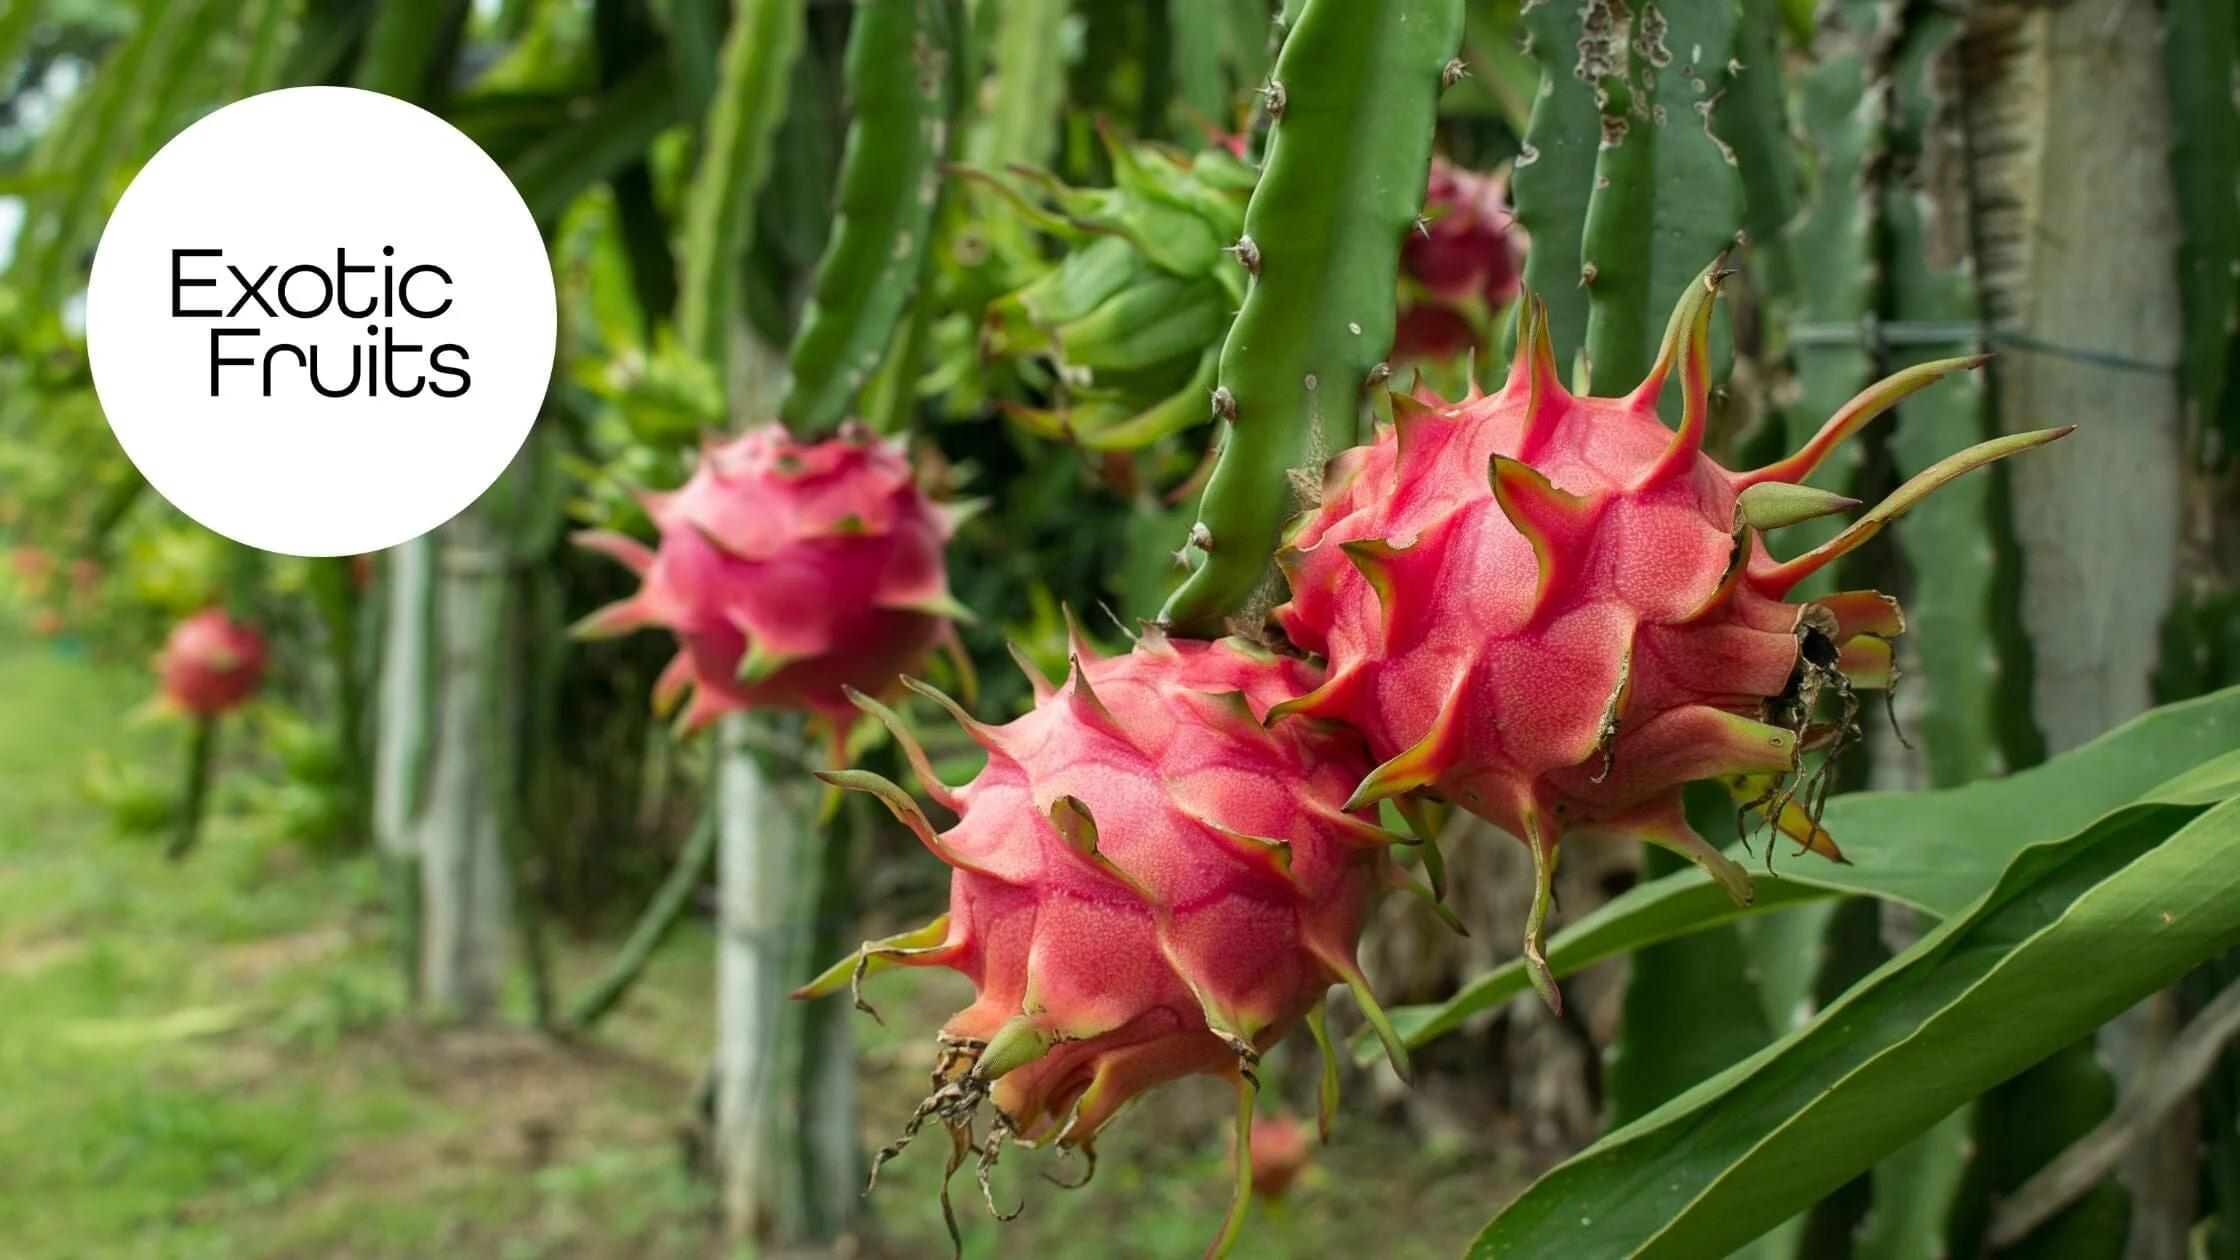dragon fruit: (1248, 288, 2028, 902), (880, 603, 1425, 1182), (580, 415, 974, 762)
